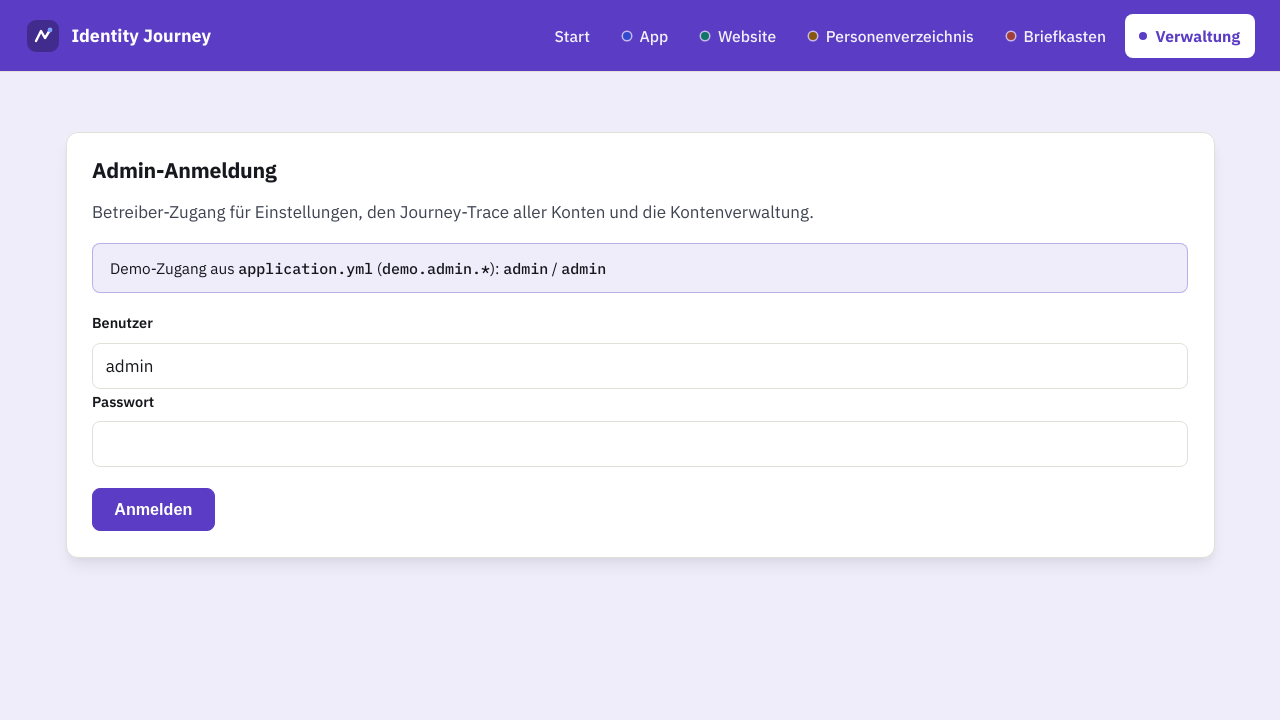
it: AdminApp › opens the admin tabs on the right credentials
Type "admin" into the password field labelled "Passwort" at (640, 444), box [92,421,1188,467]
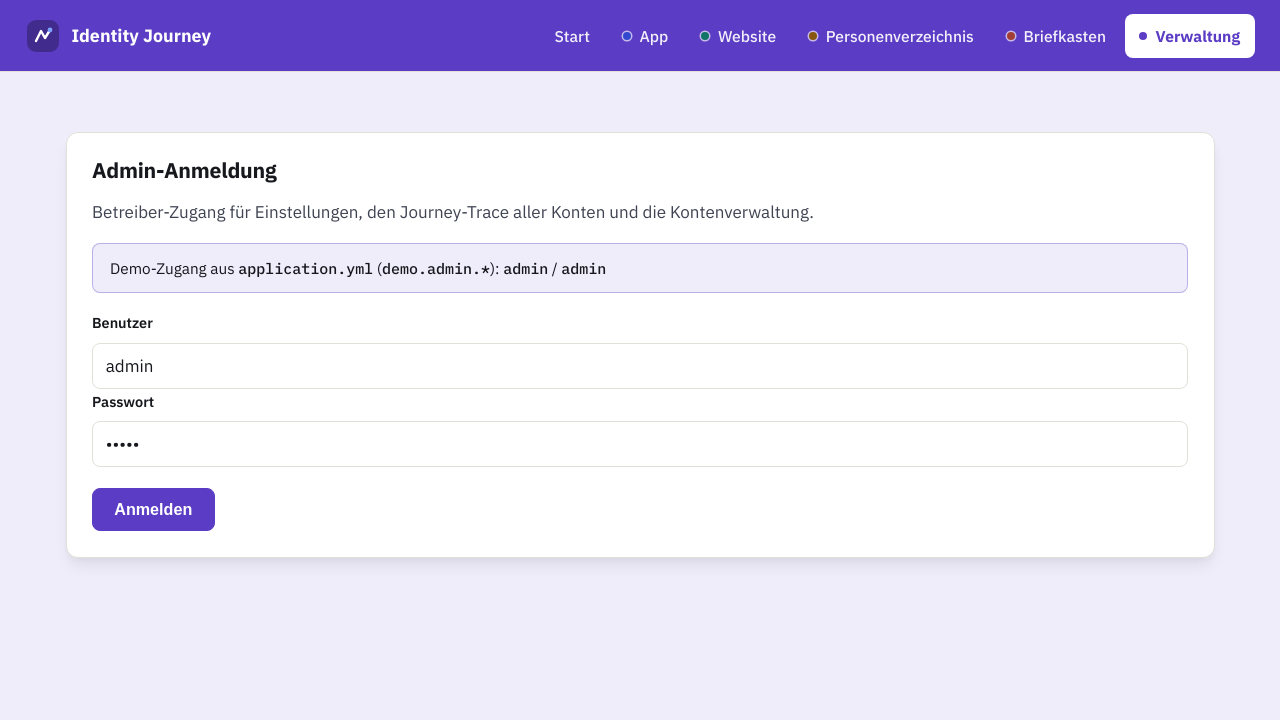
Click the button "Anmelden" at (153, 510), box [92,488,214,532]
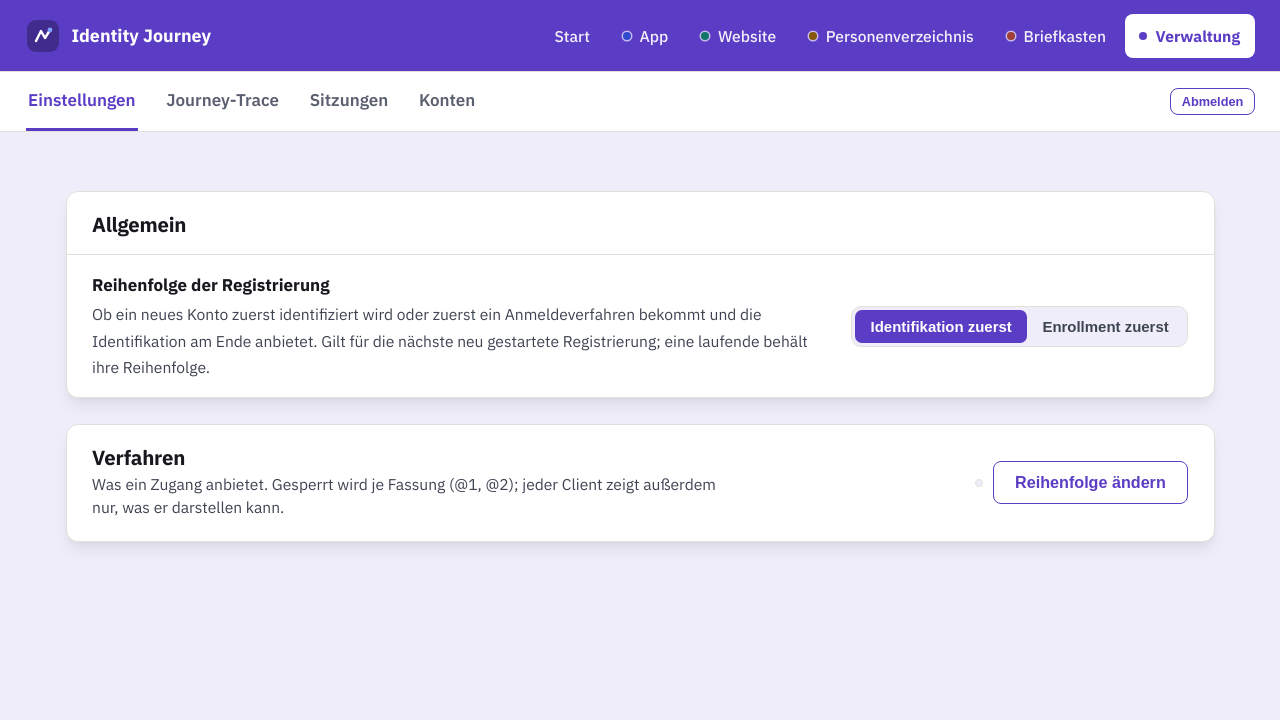
expect the tab "Journey-Trace" is shown: met, box [164,72,282,131]
expect the button "Abmelden" is shown: met, box [1170,88,1254,115]
